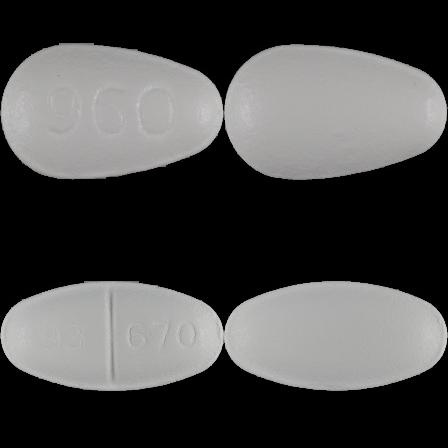54868-2335: (0, 0, 224, 224)
